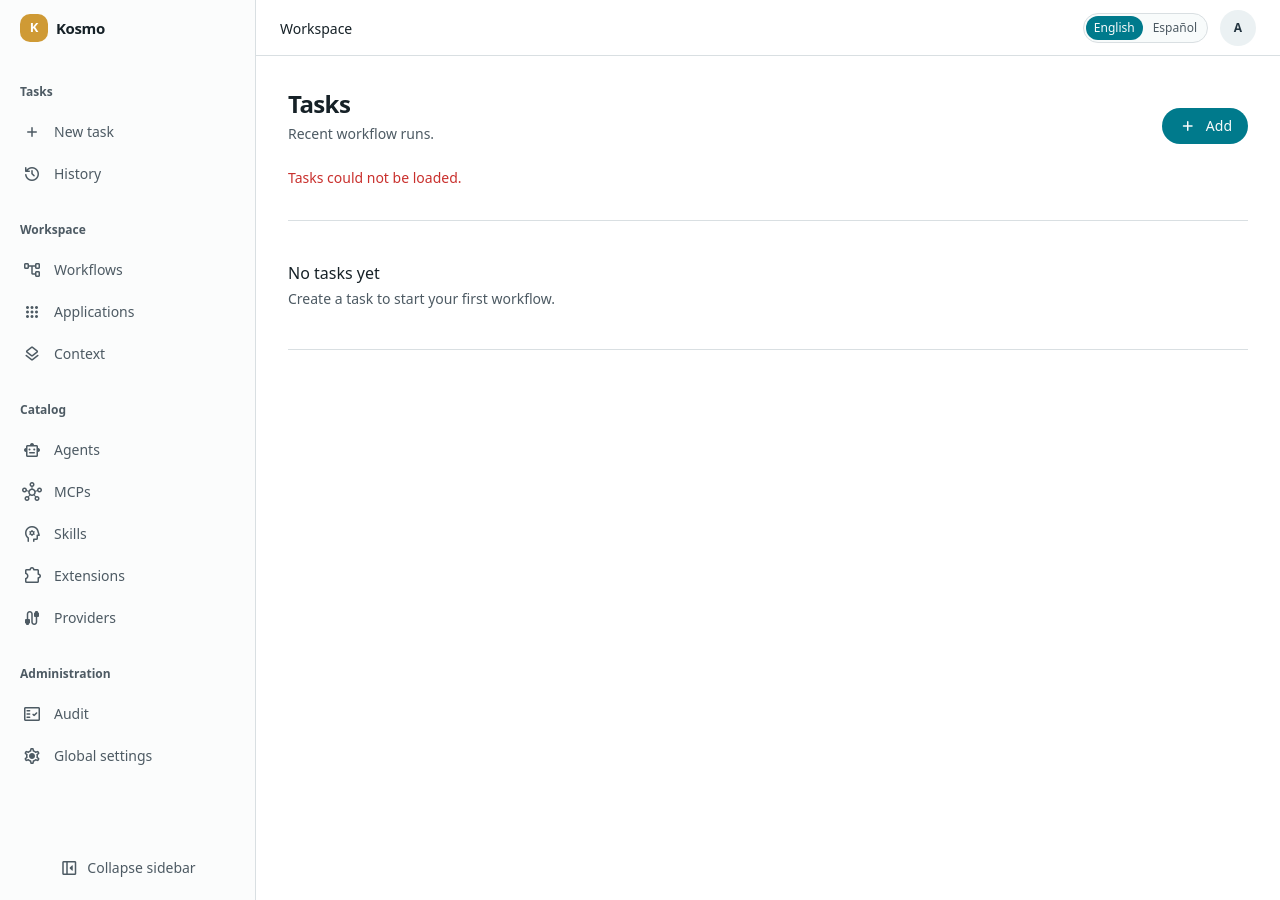
Test case: app shell and routes › opens the user menu with the correct ARIA state, a single sign-out item, and closes on Escape
Click the button named "User menu".
click(1238, 28)  # box [1220,10,1256,46]
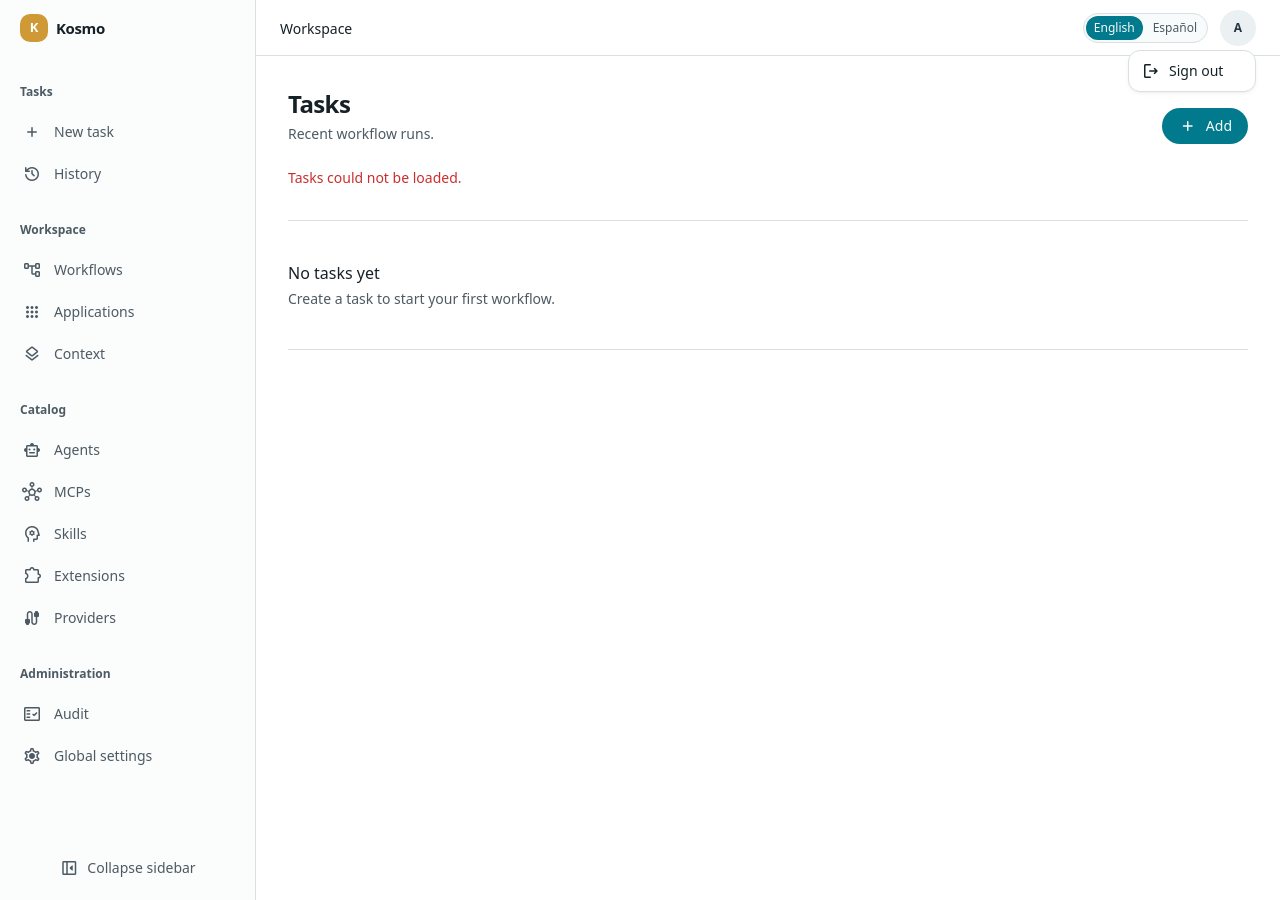
Check: the number of menu items is 1, box [1141,59,1223,83]
Press Escape
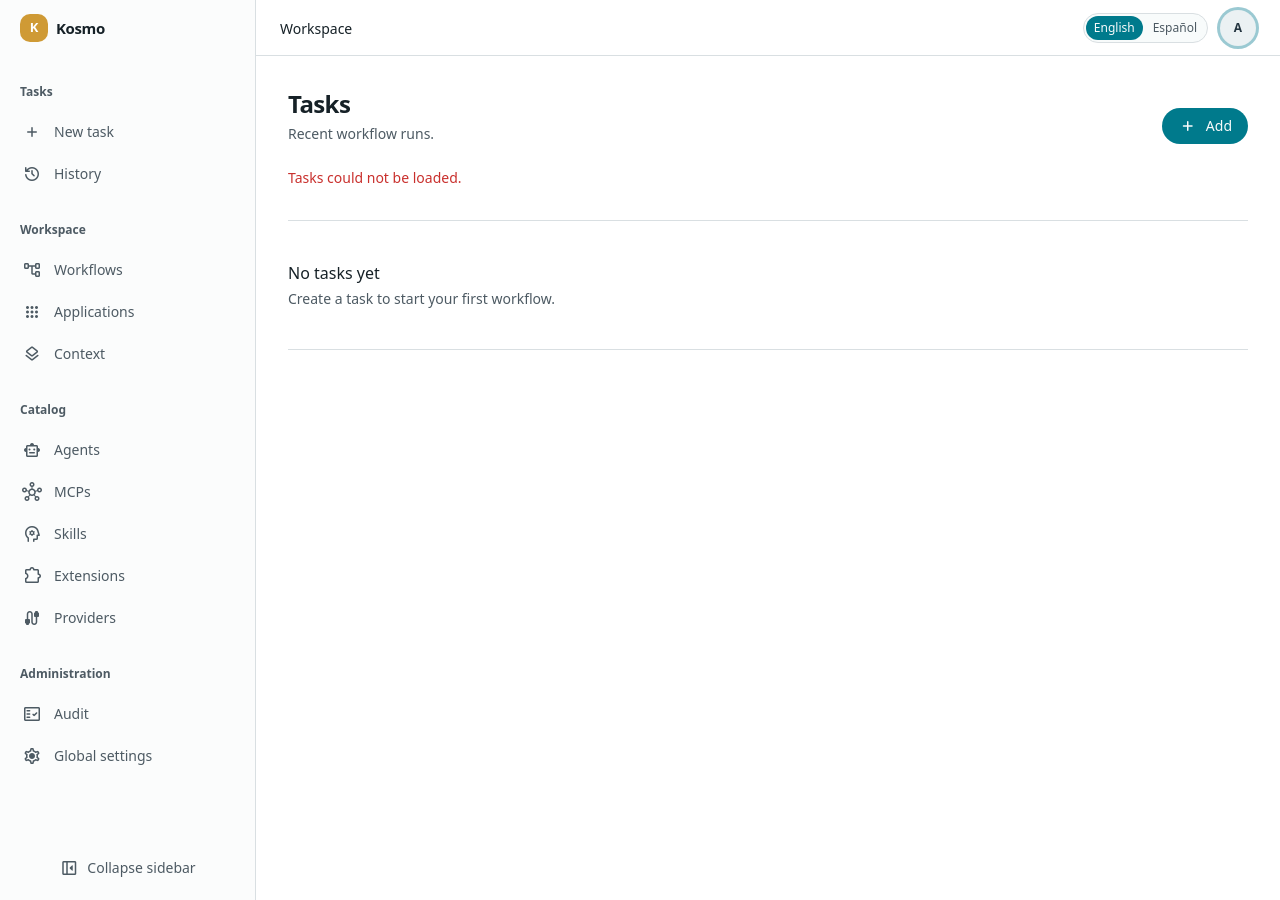
Check: the menu item "Sign out" is gone
Check: the button named "User menu" is collapsed, box [1220,10,1256,46]
